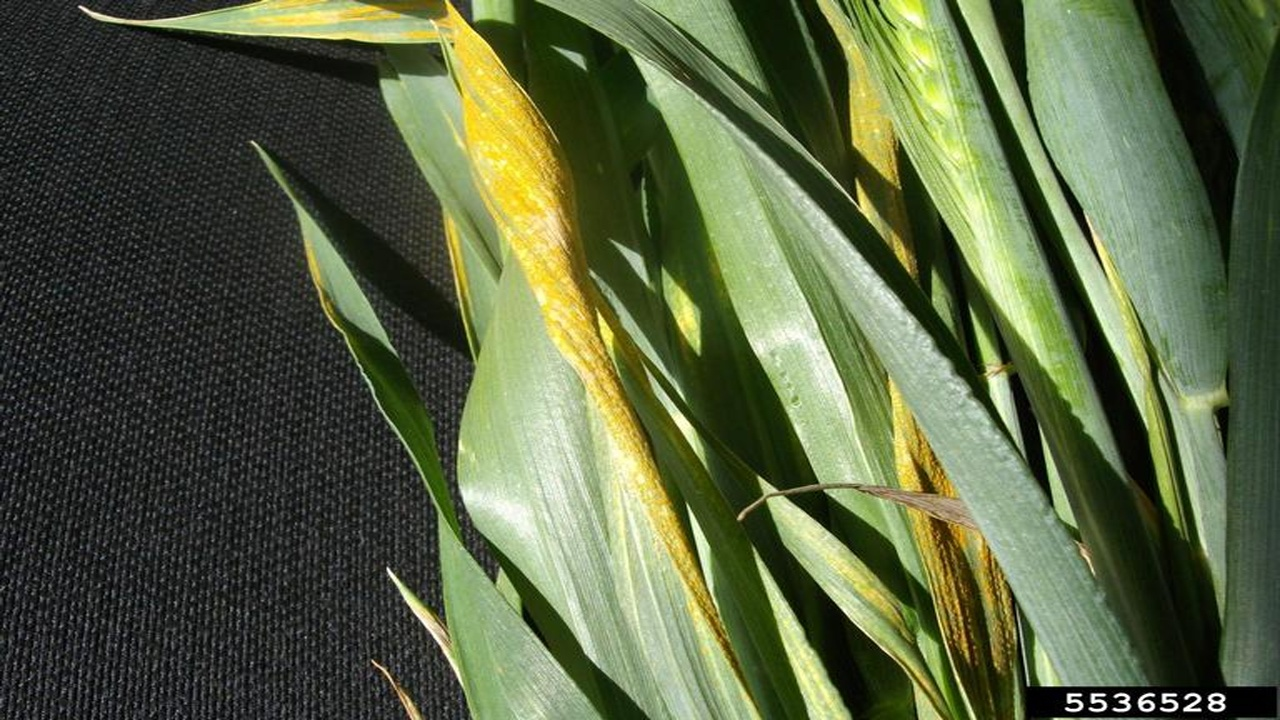stripe_rust: (456, 11, 726, 640), (254, 139, 499, 645), (706, 438, 947, 720), (889, 380, 1028, 720), (814, 1, 918, 279), (76, 1, 451, 50)
